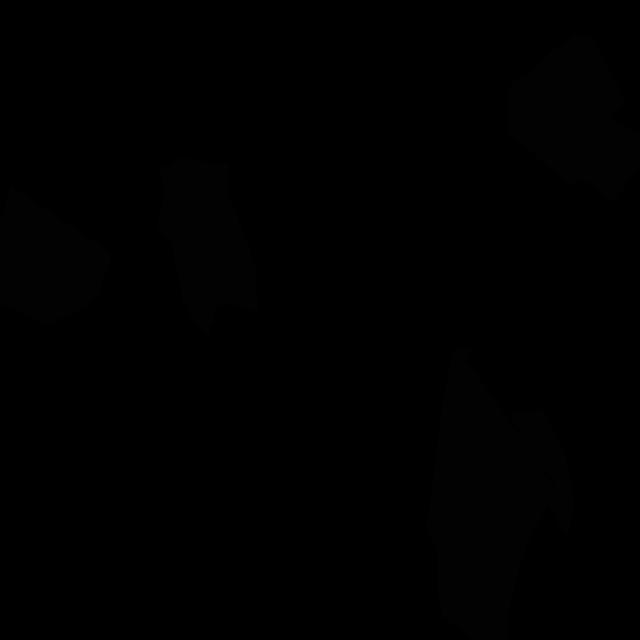cardboard: (426, 347, 556, 640), (507, 33, 640, 204), (157, 158, 259, 337), (0, 186, 113, 325), (511, 408, 574, 535)
